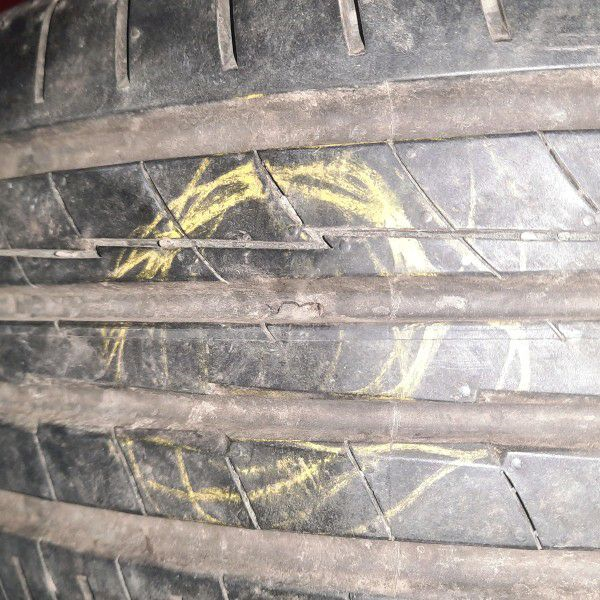tr: (257, 294, 334, 349)
